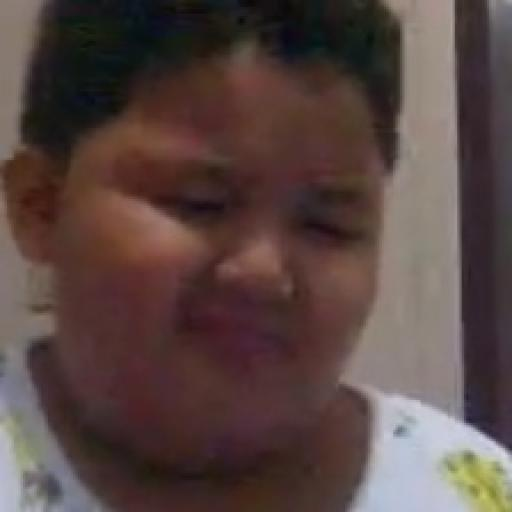Autism: (27, 0, 433, 482)
